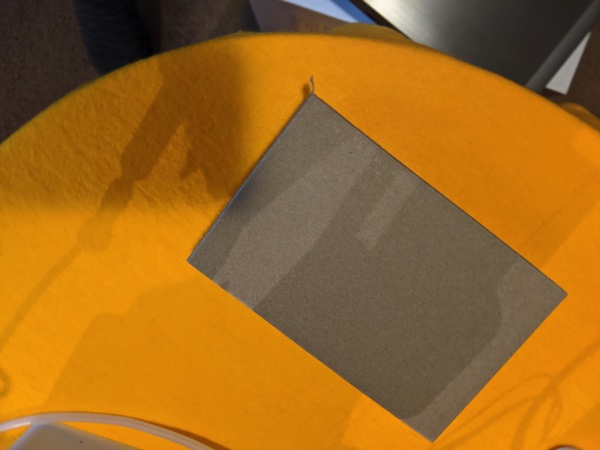cardboard: (173, 77, 579, 450)
